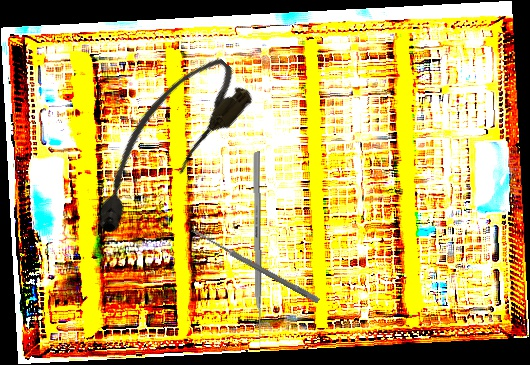Cannula: (67, 45, 260, 245)
Pusher: (252, 151, 264, 350)
Surgical Spoon: (190, 227, 321, 304)
